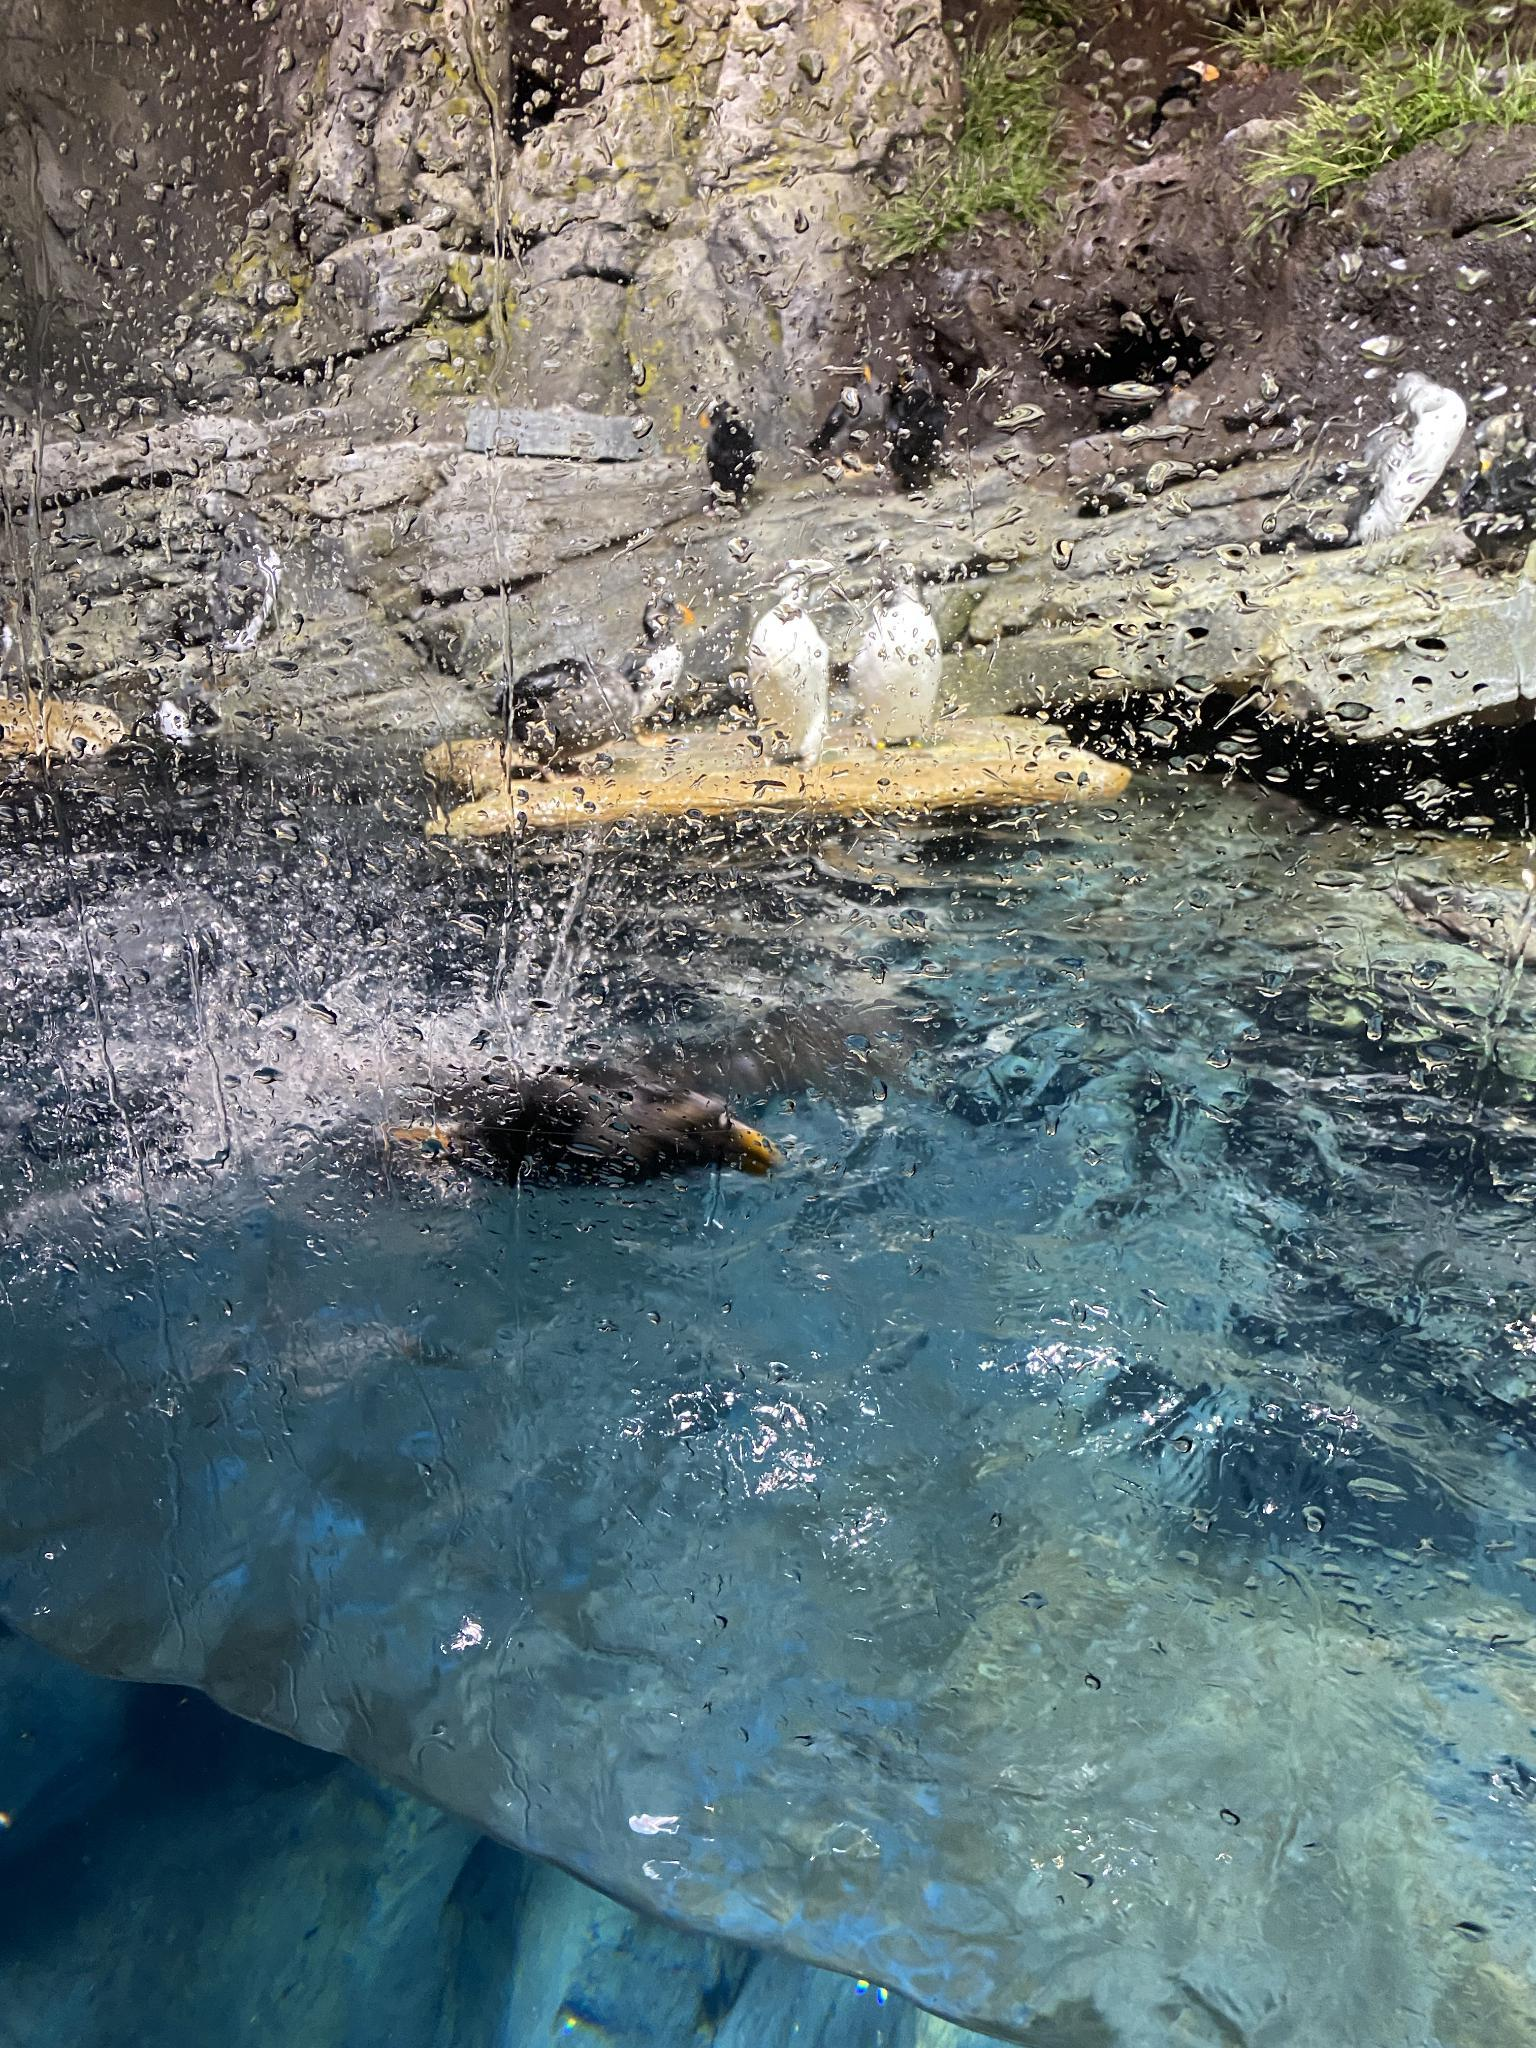puffin: (369, 1040, 786, 1193), (1342, 369, 1459, 537), (845, 569, 937, 753), (745, 585, 833, 761), (165, 542, 286, 656), (611, 590, 695, 748), (106, 689, 223, 797), (511, 653, 607, 758), (807, 361, 889, 476), (697, 390, 763, 518), (1149, 60, 1225, 147), (889, 353, 934, 484)
